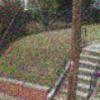stairs: (48, 40, 99, 100)
